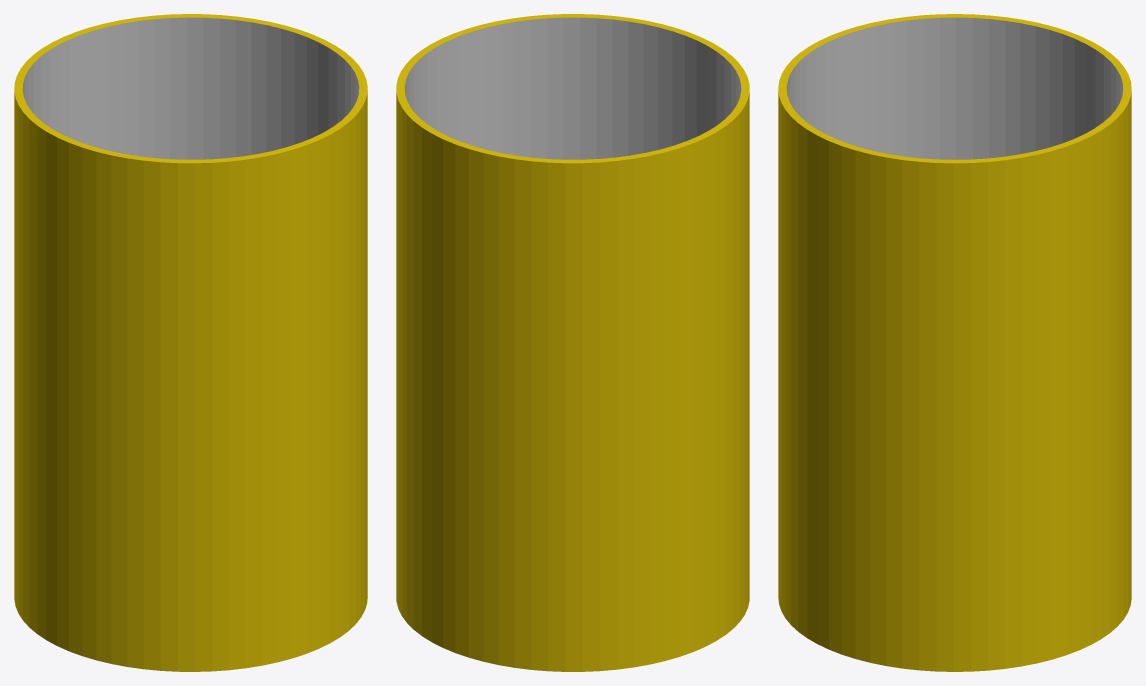
Rendered from mod_lun_jaune_old.dae.
3 views of the same model, side by side, from view 1: azimuth 30°, elevation 25°; view 2: azimuth 150°, elevation 25°; view 3: azimuth 270°, elevation 25° (orthographic).
Parts seen in each view (by area): view 1: ElemYello6; view 2: ElemYello6; view 3: ElemYello6.
Part boxes in pixels (box(x1,y1,x2,y2)): ElemYello6: box(14, 14, 367, 671); ElemYello6: box(396, 14, 749, 671); ElemYello6: box(778, 14, 1131, 671).
Size of the model in its own units: 0.063 by 0.063 by 0.1.
